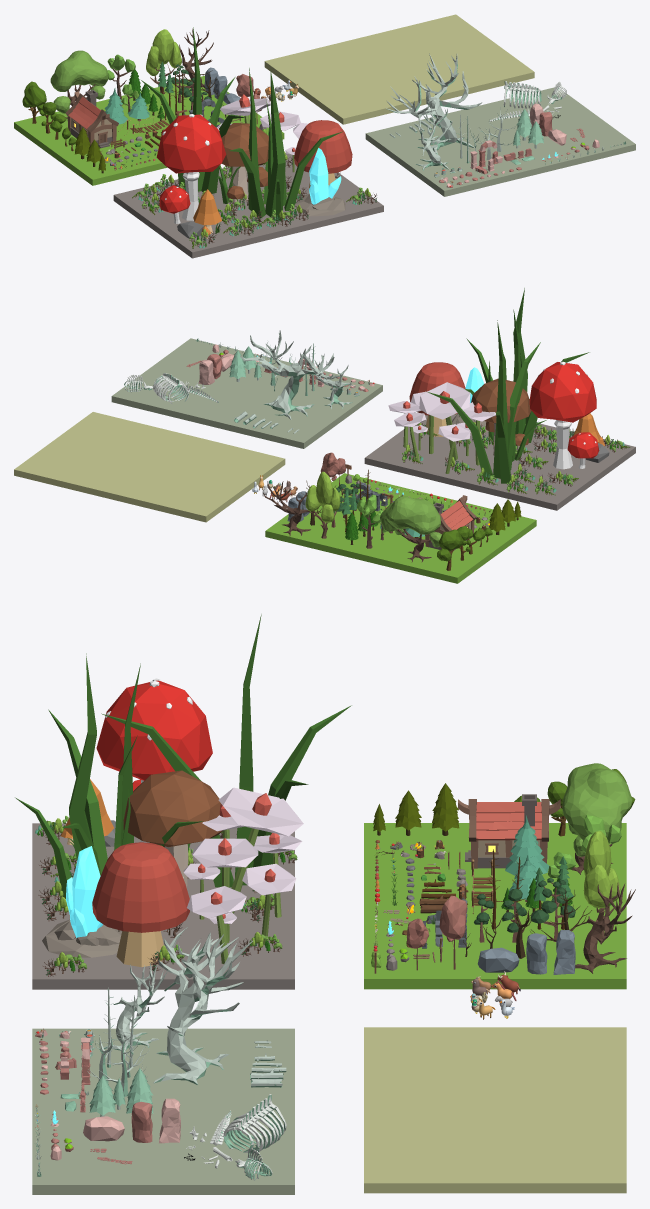
The model's file is The Otherworld.fbx.
3 views of the same model, one above another, from view 1: azimuth 30°, elevation 25°; view 2: azimuth 150°, elevation 25°; view 3: azimuth 270°, elevation 25° (orthographic). The views are drawn at different scales.
Parts seen in each view (by area): view 1: BG_Cube.001, BG_Cube.003, BG_Cube.002, BG_Cube, Mushroom5_3.001, Grass1.002, Mushrooms_grass.001, Tree5_1.044, Mushroom3_2.002, Tree5_2, House, Grass5.003 (+10 smaller); view 2: BG_Cube.001, BG_Cube.003, BG_Cube.002, BG_Cube, Mushroom5_3.001, Flower1-2.001, Grass5.003, Tree5_2, Tree5_1.044, Mushrooms_grass.001, Grass1.002, Mushroom3_2.002 (+9 smaller); view 3: BG_Cube.001, BG_Cube.003, BG_Cube, BG_Cube.002, Flower1-2.001, Mushroom3_2.002, Mushroom5_3.001, Grass1.002, Mushrooms_grass.001, Tree5_1.044, House, Grass5.003 (+16 smaller).
Part boxes in pixels (x1,y1,x2,y2): BG_Cube.001: (264,14,534,124); BG_Cube.003: (365,87,635,196); BG_Cube.002: (113,153,383,258); BG_Cube: (14,75,284,185); Mushroom5_3.001: (156,114,226,223); Grass1.002: (229,68,342,221); Mushrooms_grass.001: (217,123,268,206); Tree5_1.044: (386,53,482,154); Mushroom3_2.002: (294,120,352,188); Tree5_2: (50,50,108,118); House: (65,90,118,148); Grass5.003: (141,27,245,193); BG_Cube.001: (14,412,285,522); BG_Cube.003: (111,338,382,448); BG_Cube.002: (364,413,635,510); BG_Cube: (265,473,536,583); Mushroom5_3.001: (529,361,599,469); Flower1-2.001: (388,382,495,473); Grass5.003: (427,320,540,483); Tree5_2: (380,496,441,562); Tree5_1.044: (240,330,340,419); Mushrooms_grass.001: (471,378,546,461); Grass1.002: (465,288,589,445); Mushroom3_2.002: (409,362,465,436); BG_Cube.001: (364,1027,626,1193); BG_Cube.003: (32,1028,294,1194); BG_Cube: (364,823,626,989); BG_Cube.002: (32,823,294,989); Flower1-2.001: (183,787,303,963); Mushroom3_2.002: (92,842,189,967); Mushroom5_3.001: (96,678,212,842); Grass1.002: (15,653,203,898); Mushrooms_grass.001: (123,770,222,888); Tree5_1.044: (153,927,253,1084); House: (458,794,560,868); Grass5.003: (101,614,351,887).
Bounding box in the file's own units: 14605 × 5255 × 10613.
